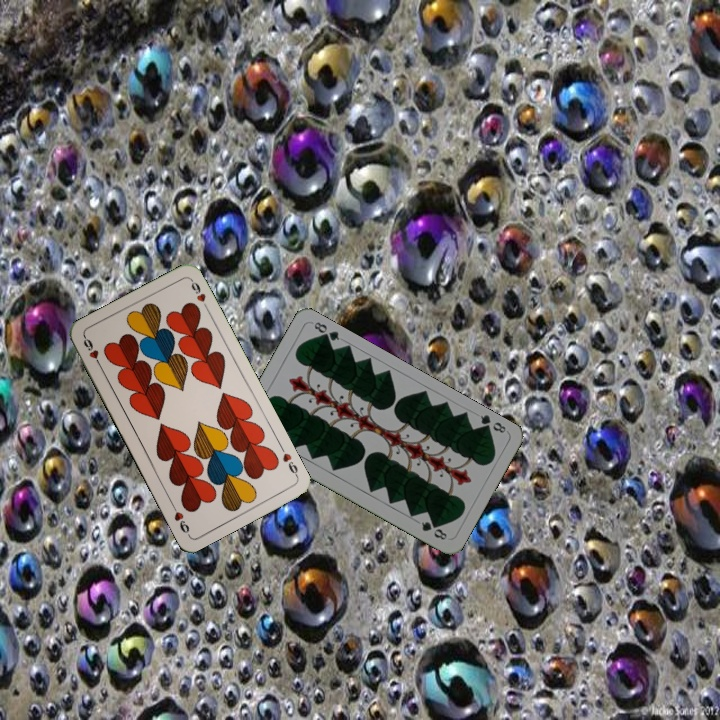G8: (476, 411, 508, 436)
H9: (79, 333, 105, 370), (276, 442, 301, 480)
